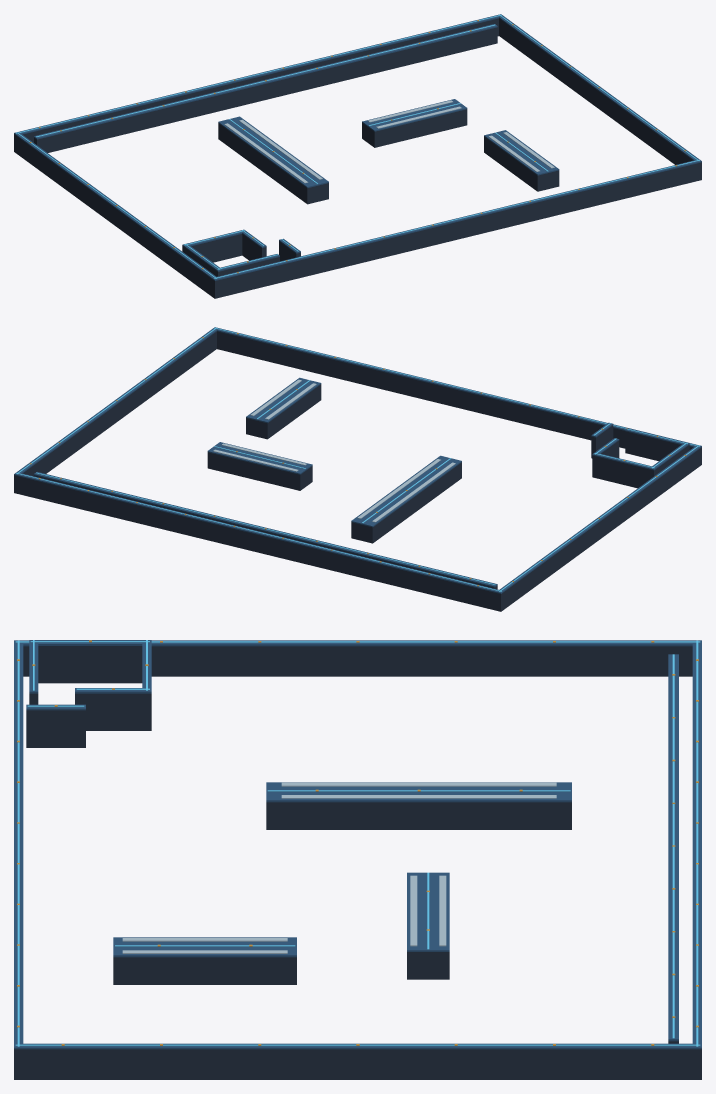
The model's file is campaign_relay_ring.runtime.gltf.
The picture shows the model from 3 angles, top to bottom: view 1: azimuth 30°, elevation 25°; view 2: azimuth 150°, elevation 25°; view 3: azimuth 270°, elevation 25°; orthographic projection. The views are drawn at different scales.
Parts seen in each view (by area): view 1: BATCH material 0, BATCH material 1, BATCH material 3, BATCH material 2; view 2: BATCH material 0, BATCH material 1, BATCH material 3, BATCH material 2; view 3: BATCH material 0, BATCH material 1, BATCH material 3, BATCH material 2.
Boxes of the visible parts, bbox=[...] form: BATCH material 0: bbox=[14, 18, 701, 298]; BATCH material 1: bbox=[14, 14, 701, 280]; BATCH material 3: bbox=[16, 14, 699, 278]; BATCH material 2: bbox=[224, 100, 554, 183]; BATCH material 0: bbox=[14, 331, 701, 611]; BATCH material 1: bbox=[14, 327, 701, 593]; BATCH material 3: bbox=[16, 327, 699, 591]; BATCH material 2: bbox=[213, 379, 455, 522]; BATCH material 0: bbox=[14, 646, 701, 1079]; BATCH material 1: bbox=[14, 640, 701, 1049]; BATCH material 3: bbox=[15, 640, 700, 1046]; BATCH material 2: bbox=[122, 782, 556, 953].
Size of the model in its own units: 31.5 by 1.45 by 22.5.
